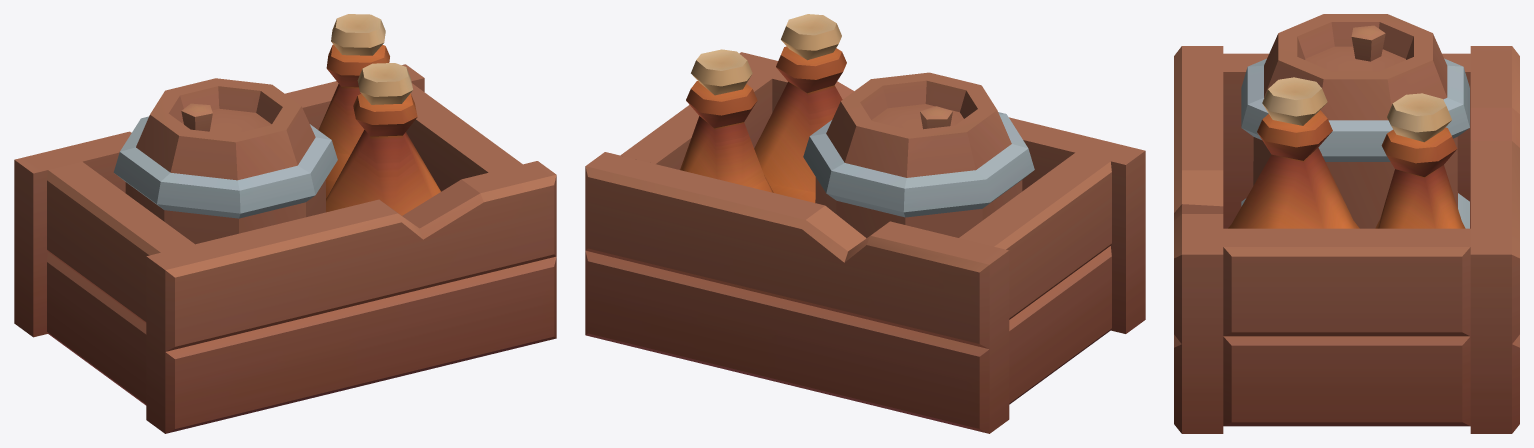
File: crate_large_decorated.glb
3 renders of one model, left to right at view 1: azimuth 30°, elevation 25°; view 2: azimuth 150°, elevation 25°; view 3: azimuth 270°, elevation 25°, orthographic. The views are drawn at different scales.
Parts seen in each view (by area): view 1: crate_large_decorated; view 2: crate_large_decorated; view 3: crate_large_decorated.
Part boxes in pixels (x1=…): crate_large_decorated: x1=14, y1=14, x2=556, y2=433; crate_large_decorated: x1=585, y1=14, x2=1145, y2=433; crate_large_decorated: x1=1174, y1=14, x2=1519, y2=433.
Bounding box in the file's own units: 2 × 1.26 × 1.4.
1 material, 1 textured.
